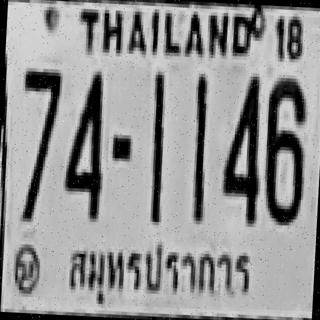N01: (146, 70, 167, 220), (189, 74, 208, 221), (190, 72, 208, 203)
N04: (62, 69, 106, 217), (220, 72, 262, 224)
N06: (261, 74, 307, 223)
N07: (16, 68, 61, 220), (17, 66, 61, 205), (19, 66, 61, 169)
P57: (56, 230, 261, 318)
